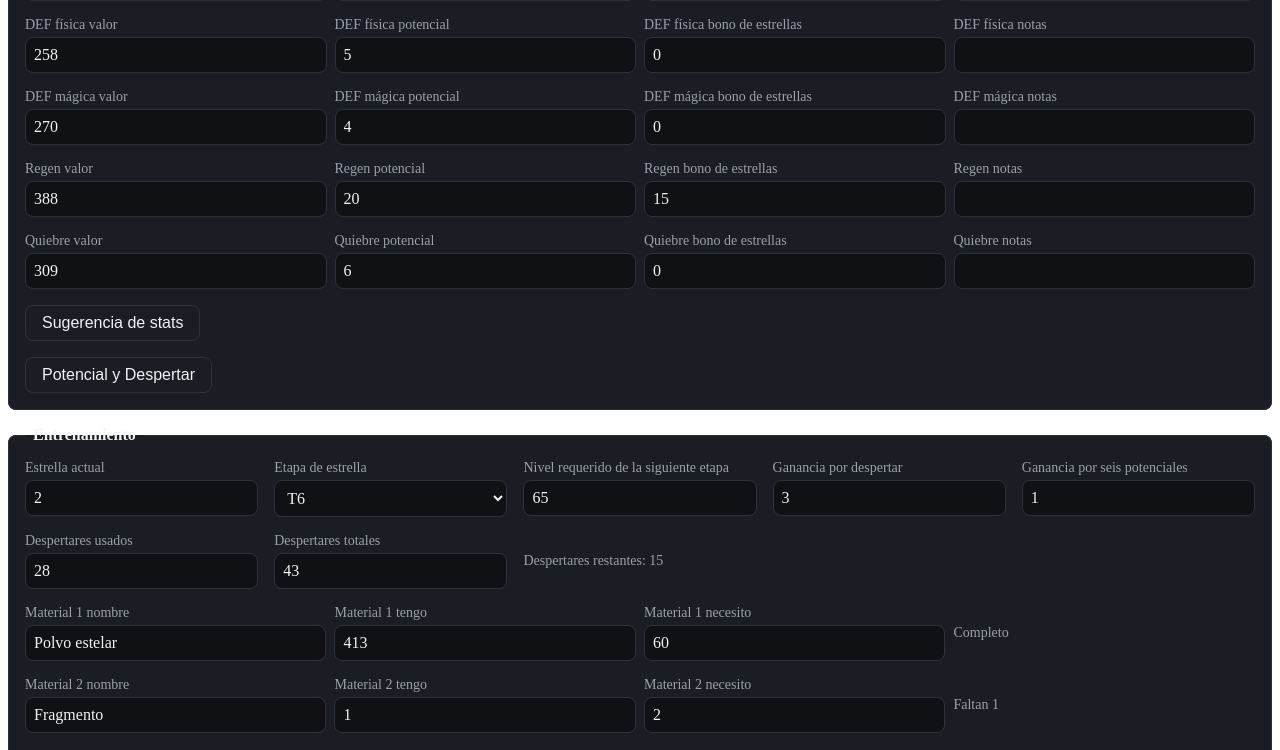
apertura de la seccion › comparte el catalogo con la sugerencia: se pide una sola vez
The image size is (1280, 750).
(page scrolled)
Click the button "Potencial y Despertar" at (118, 375), box [25,357,212,393]
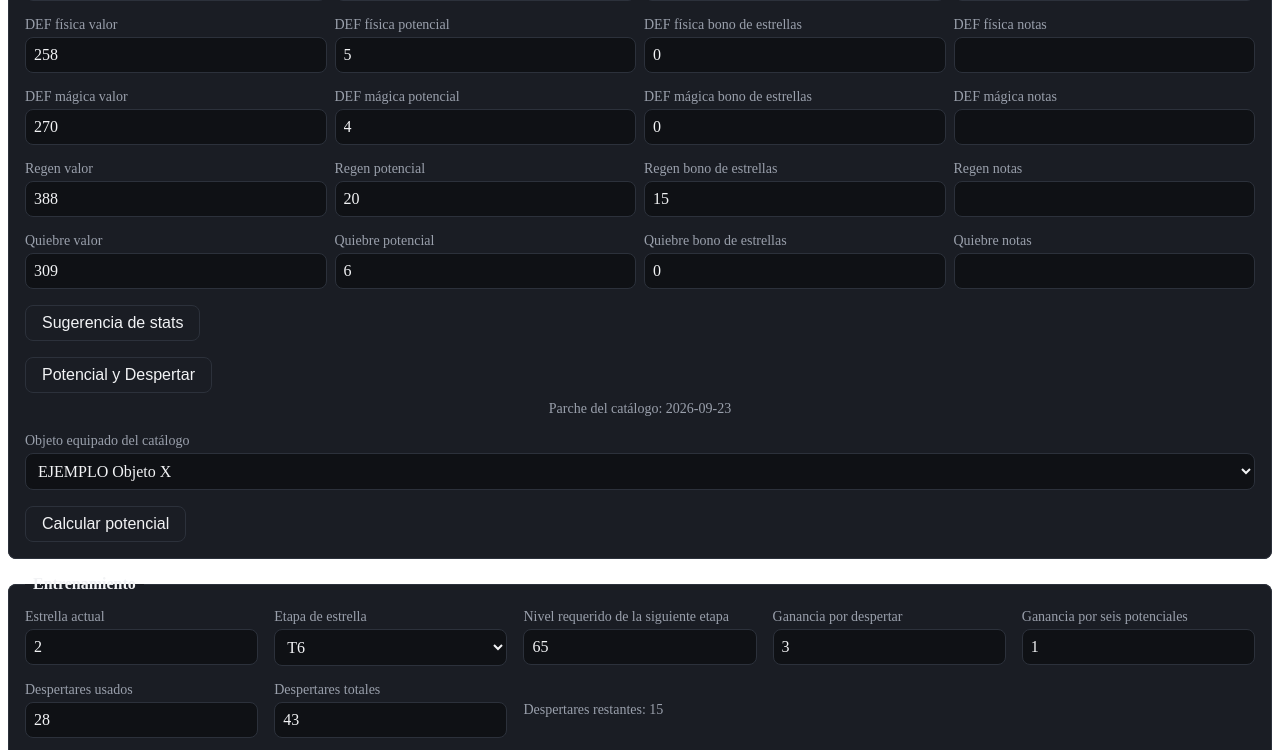
Expected: the button "Calcular potencial" is shown, [25,506,186,542]
Click the button "Sugerencia de stats" at (113, 323), box [25,305,200,341]
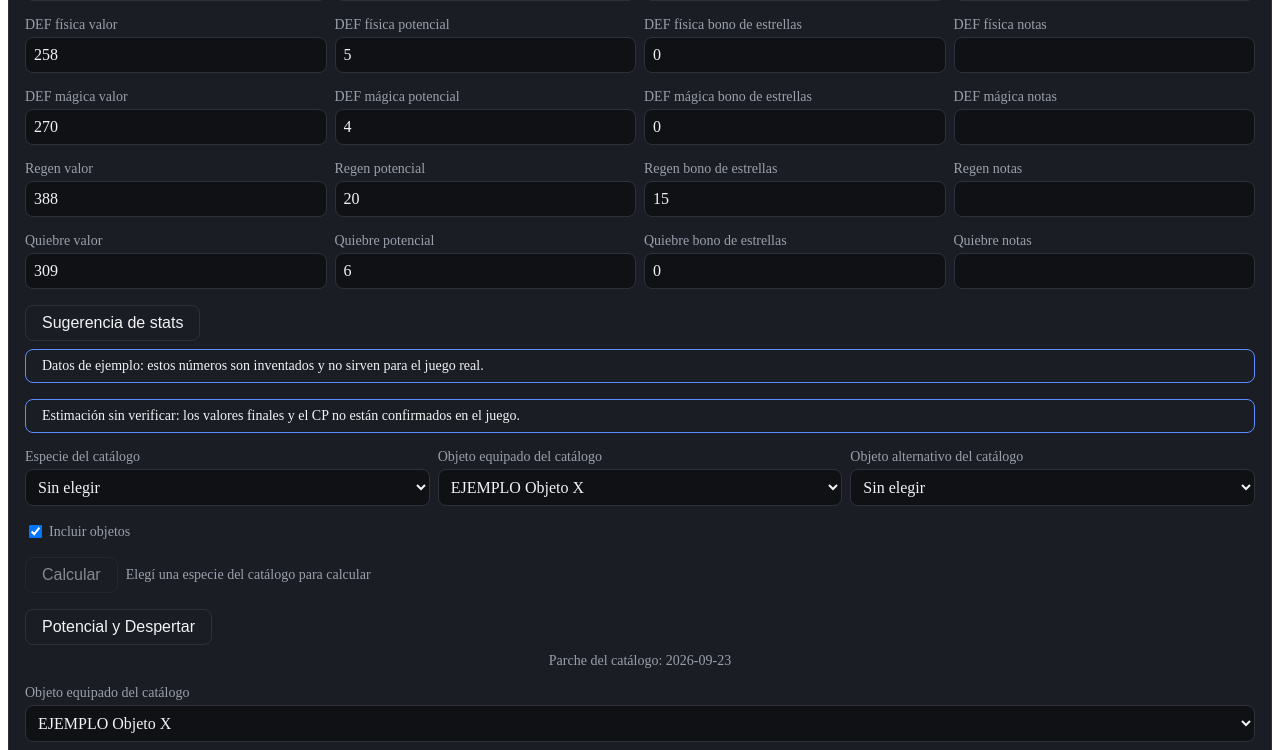
Expected: the dropdown labelled "Especie del catálogo" is shown, [25,469,430,506]
